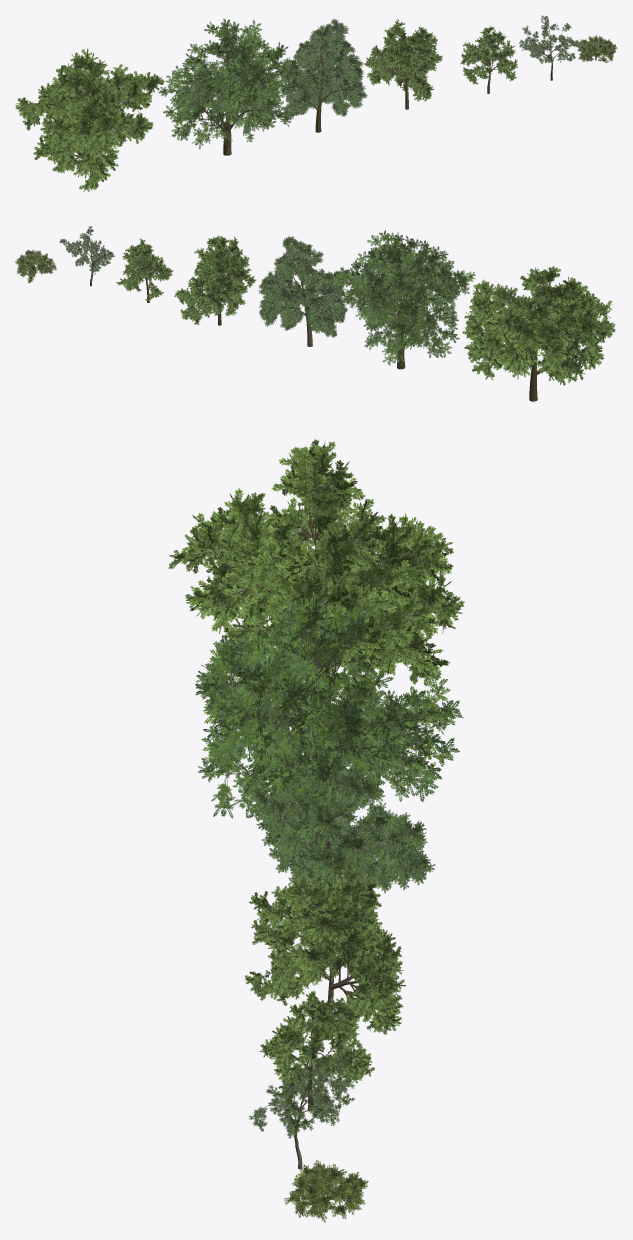
3 views of the same model, one above another, from view 1: azimuth 30°, elevation 25°; view 2: azimuth 150°, elevation 25°; view 3: azimuth 270°, elevation 25° (orthographic). The views are drawn at different scales.
Parts seen in each view (by area): view 1: Tree EZTree0.Large_leaves_0, Tree EZTree0.Medium010_leaves.010_0, Tree EZTree0.Large_branches_0, Tree EZTree1.Bush006_leaves.006_0; view 2: Tree EZTree0.Medium010_leaves.010_0, Tree EZTree0.Large_leaves_0, Tree EZTree0.Large_branches_0, Tree EZTree1.Bush006_leaves.006_0; view 3: Tree EZTree0.Medium010_leaves.010_0, Tree EZTree0.Large_leaves_0, Tree EZTree0.Large_branches_0, Tree EZTree1.Bush006_leaves.006_0.
Part boxes in pixels (bbox=[...]): Tree EZTree0.Large_leaves_0: bbox=[158, 15, 581, 149]; Tree EZTree0.Medium010_leaves.010_0: bbox=[15, 19, 517, 191]; Tree EZTree0.Large_branches_0: bbox=[29, 20, 572, 188]; Tree EZTree1.Bush006_leaves.006_0: bbox=[577, 35, 617, 62]; Tree EZTree0.Medium010_leaves.010_0: bbox=[116, 235, 615, 385]; Tree EZTree0.Large_leaves_0: bbox=[59, 226, 475, 365]; Tree EZTree0.Large_branches_0: bbox=[71, 233, 594, 401]; Tree EZTree1.Bush006_leaves.006_0: bbox=[15, 250, 56, 283]; Tree EZTree0.Medium010_leaves.010_0: bbox=[168, 439, 464, 1101]; Tree EZTree0.Large_leaves_0: bbox=[195, 592, 463, 1138]; Tree EZTree0.Large_branches_0: bbox=[213, 487, 437, 1169]; Tree EZTree1.Bush006_leaves.006_0: bbox=[284, 1160, 368, 1222].
Bounding box in the file's own units: 473 × 107 × 109.
Materials: 5 (5 with a texture image).
